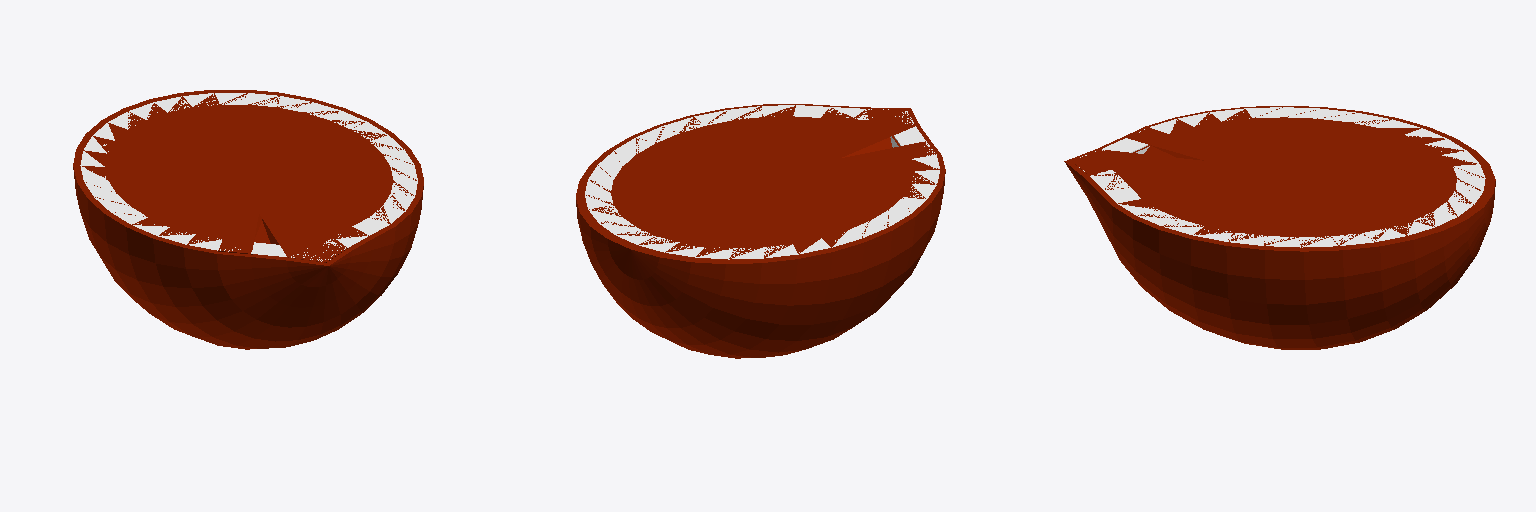
File: Coconut.obj
3 views of the same model, side by side, from view 1: azimuth 30°, elevation 25°; view 2: azimuth 150°, elevation 25°; view 3: azimuth 270°, elevation 25° (orthographic).
Parts seen in each view (by area): view 1: Object001, Sphere001; view 2: Object001, Sphere001; view 3: Object001, Sphere001.
Boxes of the visible parts, x1,y1,x2,y2 form: Object001: [73, 90, 423, 349]; Sphere001: [80, 93, 416, 262]; Object001: [576, 104, 945, 358]; Sphere001: [583, 105, 939, 260]; Object001: [1064, 106, 1495, 349]; Sphere001: [1072, 107, 1487, 248].
Size of the model in its own units: 254976 by 127550 by 318195.